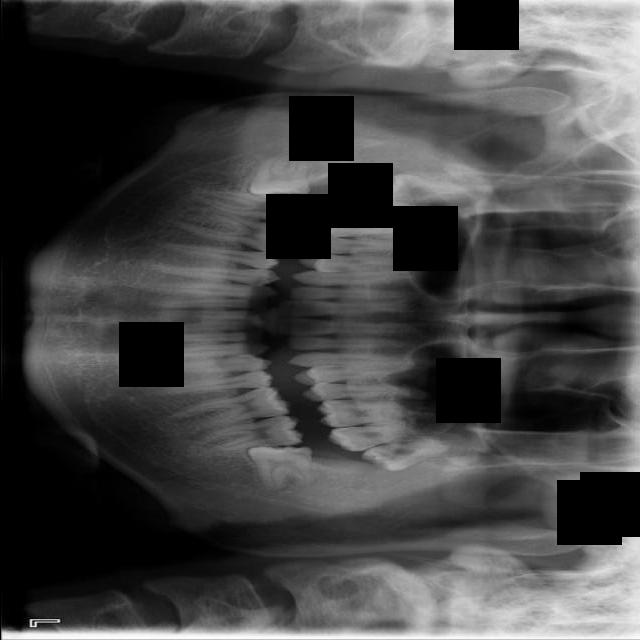3M ESPE Implant: (375, 171, 501, 212)
73: (69, 560, 80, 564)
BioHorizons Implant: (325, 419, 462, 455)
BioLife Implant: (359, 431, 490, 476)
Biomet 3i Implant: (247, 433, 319, 496)
Blue Sky Bio Implant: (194, 413, 304, 456)
Caries: (329, 187, 452, 220)
Implant: (189, 185, 306, 226)
Keystone Dental Implant: (248, 151, 312, 200)
